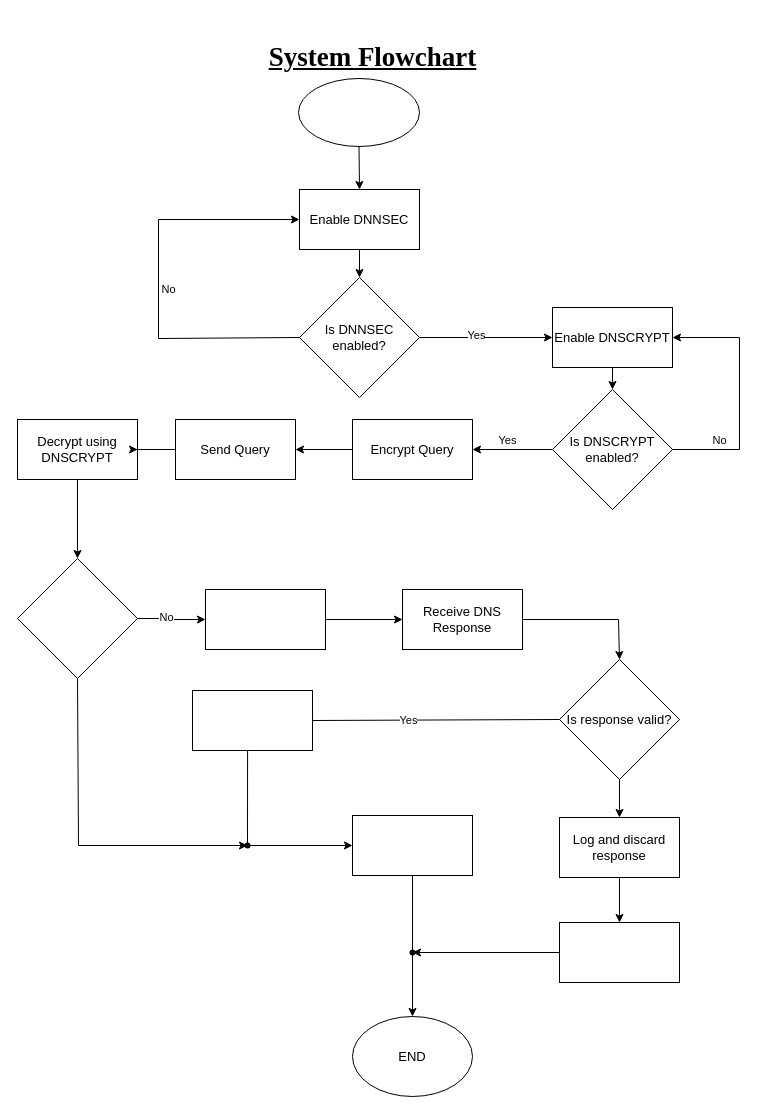
Image size: 765x1114. Some labels were removed from this diagram. Here are the shapes that lost their labels. From the top down, the box of each, then its label:
(298, 78, 420, 146): START
(16, 558, 138, 678): Is Response on Cache?
(204, 588, 326, 650): Query Servers Responding
(192, 690, 312, 750): Proceed with decryption
(352, 814, 472, 876): Forward response to DNS User-app
(558, 922, 680, 982): Notify user of possible attack
